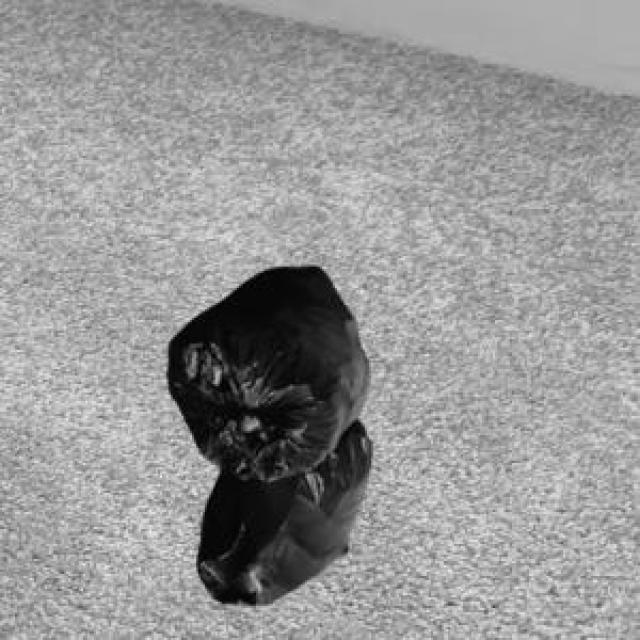miscellaneous trash: (164, 262, 369, 602)
